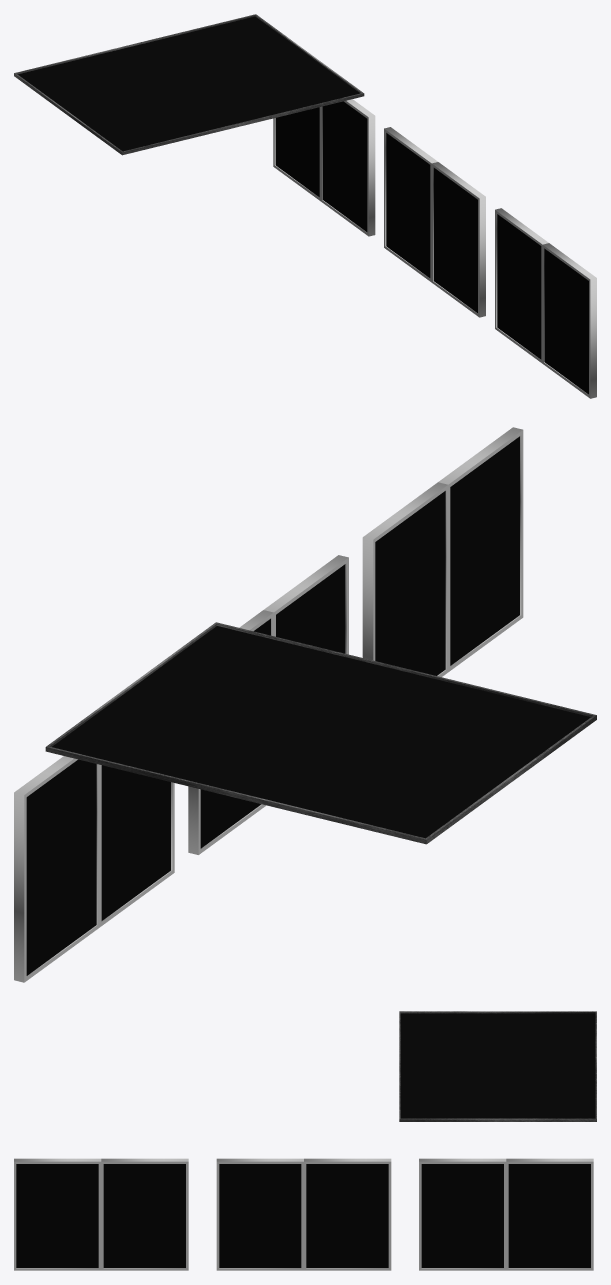
File: Window_Glass.fbx
The picture shows the model from 3 angles, top to bottom: view 1: azimuth 30°, elevation 25°; view 2: azimuth 150°, elevation 25°; view 3: azimuth 270°, elevation 25°; orthographic projection. The views are drawn at different scales.
Visible parts, largest first — view 1: Window_Glass; view 2: Window_Glass; view 3: Window_Glass.
Boxes of the visible parts, x1=… form: Window_Glass: x1=14, y1=14, x2=596, y2=398; Window_Glass: x1=14, y1=427, x2=596, y2=982; Window_Glass: x1=14, y1=1011, x2=596, y2=1270.
Bounding box in the file's own units: 8.43 × 4.73 × 17.63.
